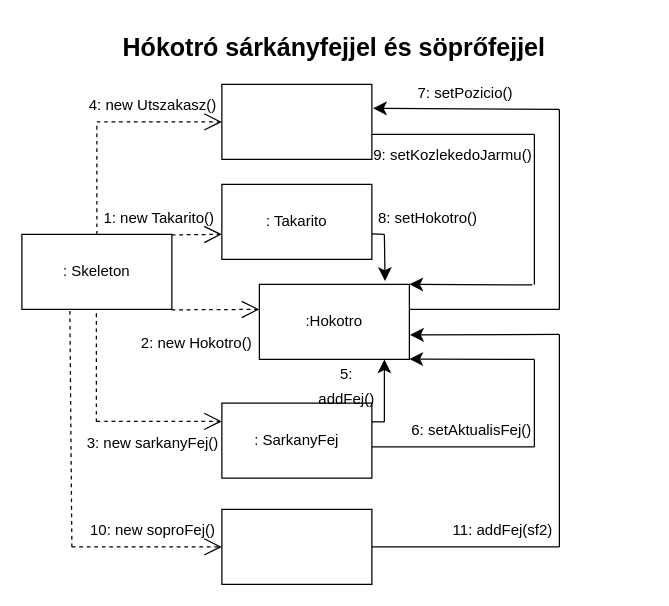
Some shapes in this 669 by 606 pixel diagram are drawn without their labels. Here are the shapes that lost their labels. From the top down, the centre of each, then its label:
(296,121): :Utszakasz
(296,546): : SöprőFej
